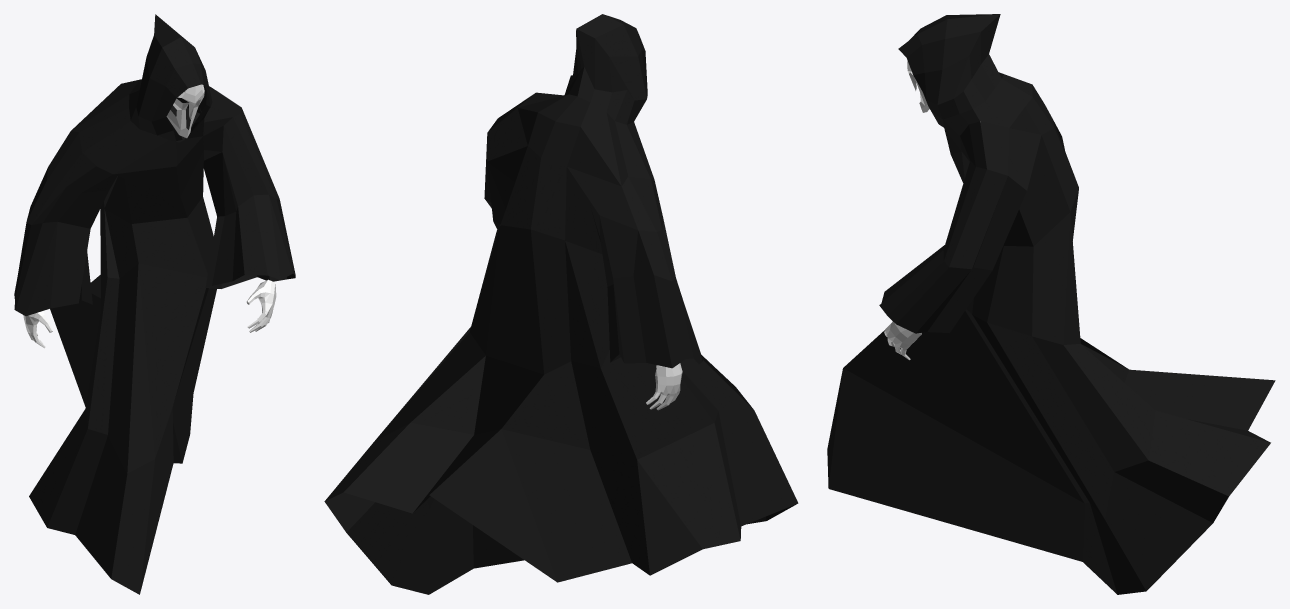
Rendered from ReaperWalk(35).obj.
3 renders of one model, left to right at view 1: azimuth 30°, elevation 25°; view 2: azimuth 150°, elevation 25°; view 3: azimuth 270°, elevation 25°, orthographic. The views are drawn at different scales.
Parts seen in each view (by area): view 1: Plane003; view 2: Plane003; view 3: Plane003.
Part boxes in pixels (x1,y1,x2,y2): Plane003: (14,14,295,594); Plane003: (324,14,798,594); Plane003: (827,14,1275,594).
Size of the model in its own units: 108 by 203 by 153.
